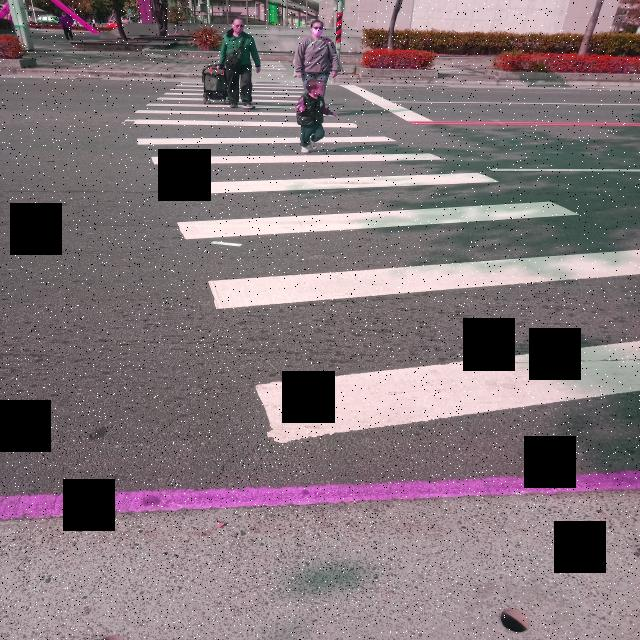person: (218, 18, 260, 109), (293, 20, 338, 89), (297, 79, 335, 154)
zebra crossing: (122, 71, 640, 439)
